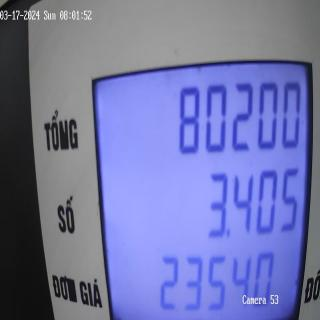screen: (88, 46, 316, 320)
